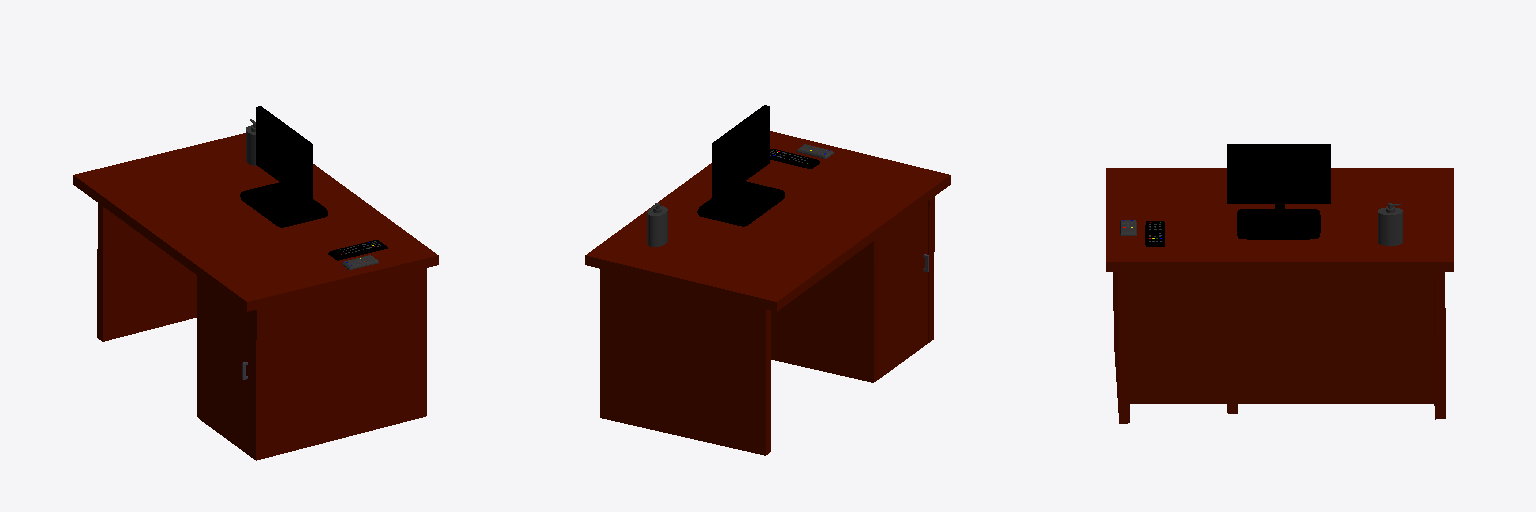
File: mejabaru.obj
The picture shows the model from 3 angles: view 1: azimuth 30°, elevation 25°; view 2: azimuth 150°, elevation 25°; view 3: azimuth 270°, elevation 25°; orthographic projection.
Parts seen in each view (by area): view 1: Cube_Cube.017, Cube.002_Cube.003, Cube.003_Cube.004, Cube.006_Cube.015, Cube.011_Cube.027, Cube.010_Cube.026, Cube.004_Cube.005, Cube.021_Cube.022; view 2: Cube_Cube.017, Cube.003_Cube.004, Cube.004_Cube.005, Cube.006_Cube.015, Cube.011_Cube.027, Cube.010_Cube.026, Cube.002_Cube.003, Cylinder.001; view 3: Cube.001_Cube.002, Cube_Cube.017, Cube.011_Cube.027, Cube.010_Cube.026, Cube.002_Cube.003, Cube.003_Cube.004, Cylinder.001.
Boxes of the visible parts, x1=… form: Cube_Cube.017: x1=73, y1=133, x2=438, y2=311; Cube.002_Cube.003: x1=250, y1=268, x2=426, y2=460; Cube.003_Cube.004: x1=97, y1=203, x2=196, y2=341; Cube.006_Cube.015: x1=201, y1=280, x2=250, y2=455; Cube.011_Cube.027: x1=256, y1=106, x2=312, y2=201; Cube.010_Cube.026: x1=240, y1=182, x2=327, y2=227; Cube.004_Cube.005: x1=197, y1=276, x2=202, y2=419; Cube.021_Cube.022: x1=328, y1=240, x2=387, y2=260; Cube_Cube.017: x1=585, y1=131, x2=950, y2=311; Cube.003_Cube.004: x1=600, y1=269, x2=770, y2=455; Cube.004_Cube.005: x1=771, y1=238, x2=878, y2=382; Cube.006_Cube.015: x1=878, y1=202, x2=927, y2=379; Cube.011_Cube.027: x1=712, y1=105, x2=769, y2=201; Cube.010_Cube.026: x1=697, y1=181, x2=784, y2=226; Cube.002_Cube.003: x1=928, y1=197, x2=934, y2=342; Cylinder.001: x1=647, y1=206, x2=667, y2=246; Cube.001_Cube.002: x1=1129, y1=272, x2=1434, y2=403; Cube_Cube.017: x1=1106, y1=168, x2=1453, y2=271; Cube.011_Cube.027: x1=1227, y1=144, x2=1330, y2=203; Cube.010_Cube.026: x1=1237, y1=209, x2=1320, y2=239; Cube.002_Cube.003: x1=1113, y1=272, x2=1129, y2=423; Cube.003_Cube.004: x1=1434, y1=272, x2=1445, y2=419; Cylinder.001: x1=1378, y1=208, x2=1402, y2=245.
Size of the model in its own units: 4.15 by 5.13 by 6.52.